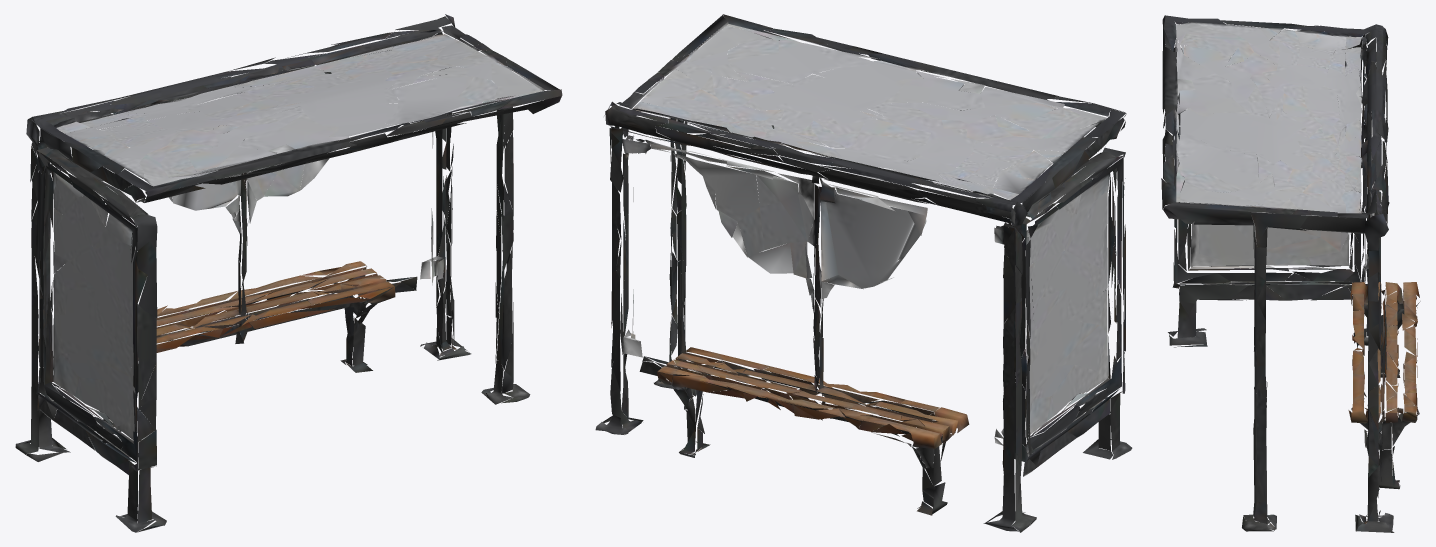
The model's file is busstop.glb.
The picture shows the model from 3 angles, left to right: view 1: azimuth 30°, elevation 25°; view 2: azimuth 150°, elevation 25°; view 3: azimuth 270°, elevation 25°; orthographic projection. The views are drawn at different scales.
Visible parts, largest first — view 1: tripo_node_337bdb99-f2c1-4c9a-ac58-c39b7cd104a8; view 2: tripo_node_337bdb99-f2c1-4c9a-ac58-c39b7cd104a8; view 3: tripo_node_337bdb99-f2c1-4c9a-ac58-c39b7cd104a8.
Part boxes in pixels (x1,y1,x2,y2): tripo_node_337bdb99-f2c1-4c9a-ac58-c39b7cd104a8: (15,14,562,532); tripo_node_337bdb99-f2c1-4c9a-ac58-c39b7cd104a8: (595,14,1132,532); tripo_node_337bdb99-f2c1-4c9a-ac58-c39b7cd104a8: (1161,15,1420,532).
Size of the model in its own units: 1.34 by 0.9998 by 0.7291.
1 material, 1 textured.
